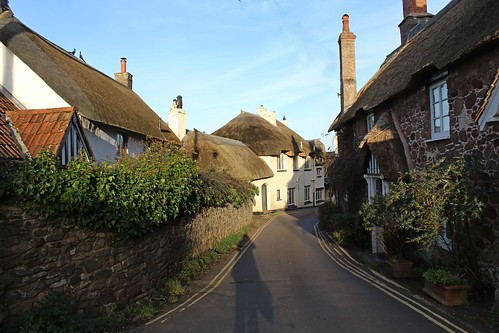building: (349, 1, 499, 271), (1, 24, 184, 191), (222, 111, 337, 208)
sky: (43, 4, 401, 110)
street: (84, 210, 478, 333)
